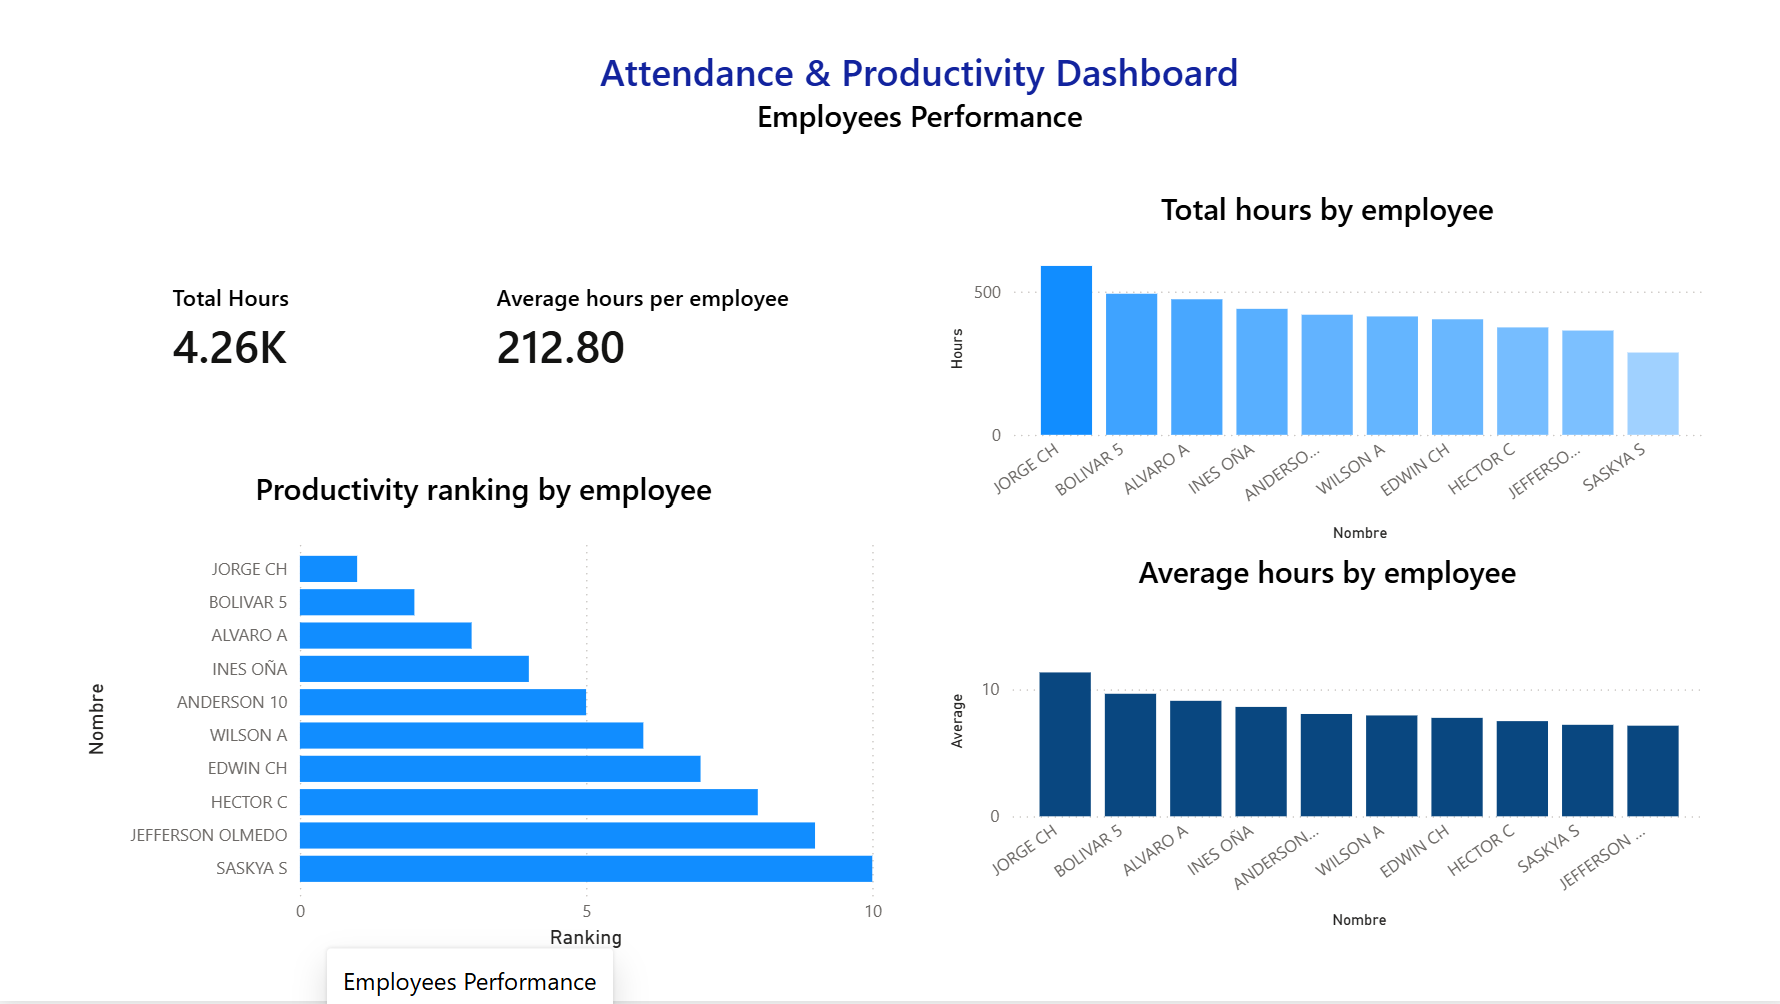

What the dashboard file says about the page in this screenshot:
{"tool":"powerbi","page":{"name":"Employees Performance","canvas":[1280,720],"ordinal":1},"visuals":[{"type":"cardVisual","fields":{"Data":["Sum(public vw_company_overview.total_hours)"]},"box":[97.1,139.5,259.3,200.2],"z":0},{"type":"cardVisual","fields":{"Data":["Avg(public vw_company_overview.avg_hours)"]},"box":[329.1,139.5,275,200],"z":1000},{"type":"clusteredBarChart","title":"Productivity ranking by employee","fields":{"Category":["public vw_productivity_ranking.Nombre"],"Y":["Sum(public vw_productivity_ranking.productivity_ranking)"]},"box":[59.1,339.7,579.3,347.3],"z":2000},{"type":"clusteredColumnChart","title":"Average hours by employee","fields":{"Y":["Avg(public vw_employee_summary.Average_Hours)"],"Category":["public vw_employee_summary.Nombre"]},"box":[676.4,398.9,550.5,274.5],"z":3000},{"type":"clusteredColumnChart","title":"Total hours by employee","fields":{"Y":["Sum(public vw_employee_summary.Total_Hours)"],"Category":["public vw_employee_summary.Nombre"]},"box":[676.4,139.5,550.5,256.3],"z":4000},{"type":"textbox","box":[74.3,33.4,1170.8,106.2],"z":5000}]}

Visuals, with their boxes in screenshot pixels (x1, y1, x2, y2), scaled from the page's 1280x720 canvas onto the 1780x1004 screenshot:
cardVisual - Sum(public vw_company_overview.total_hours): region(135, 195, 496, 474)
cardVisual - Avg(public vw_company_overview.avg_hours): region(458, 195, 840, 473)
"Productivity ranking by employee" clusteredBarChart: region(82, 474, 888, 958)
"Average hours by employee" clusteredColumnChart: region(941, 556, 1706, 939)
"Total hours by employee" clusteredColumnChart: region(941, 195, 1706, 552)
textbox: region(103, 47, 1731, 195)
